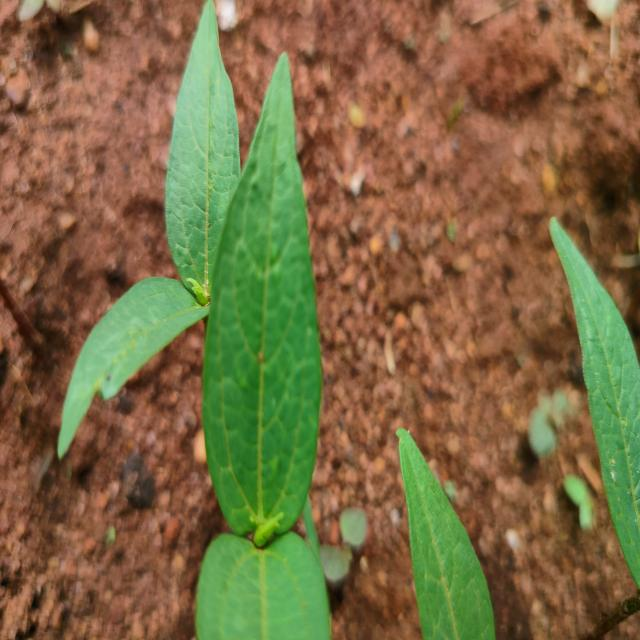Black gram_healthy: (206, 50, 323, 539), (552, 215, 640, 586), (163, 0, 242, 304), (398, 424, 495, 640)
